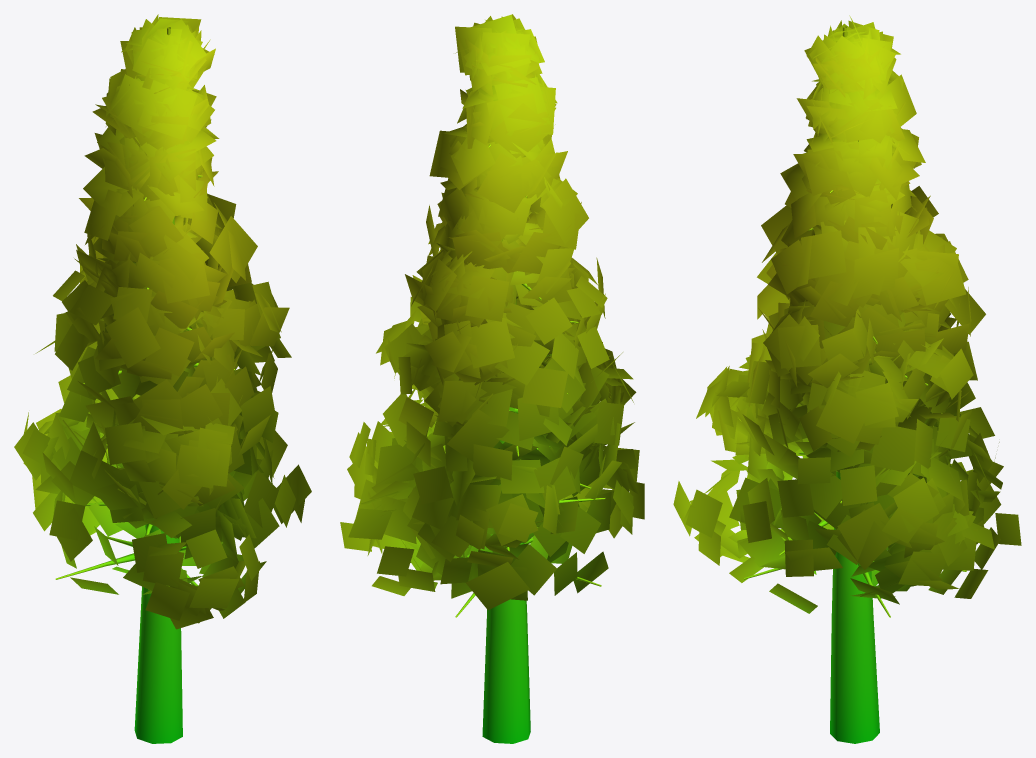
Rendered from sugi_c.glb.
The picture shows the model from 3 angles, left to right: view 1: azimuth 30°, elevation 25°; view 2: azimuth 150°, elevation 25°; view 3: azimuth 270°, elevation 25°; orthographic projection.
Parts seen in each view (by area): view 1: sugi_c; view 2: sugi_c; view 3: sugi_c.
Part boxes in pixels (x1,y1,x2,y2): sugi_c: (14,14,311,743); sugi_c: (340,14,644,743); sugi_c: (673,15,1021,743).
Size of the model in its own units: 4.05 by 11.4 by 5.
